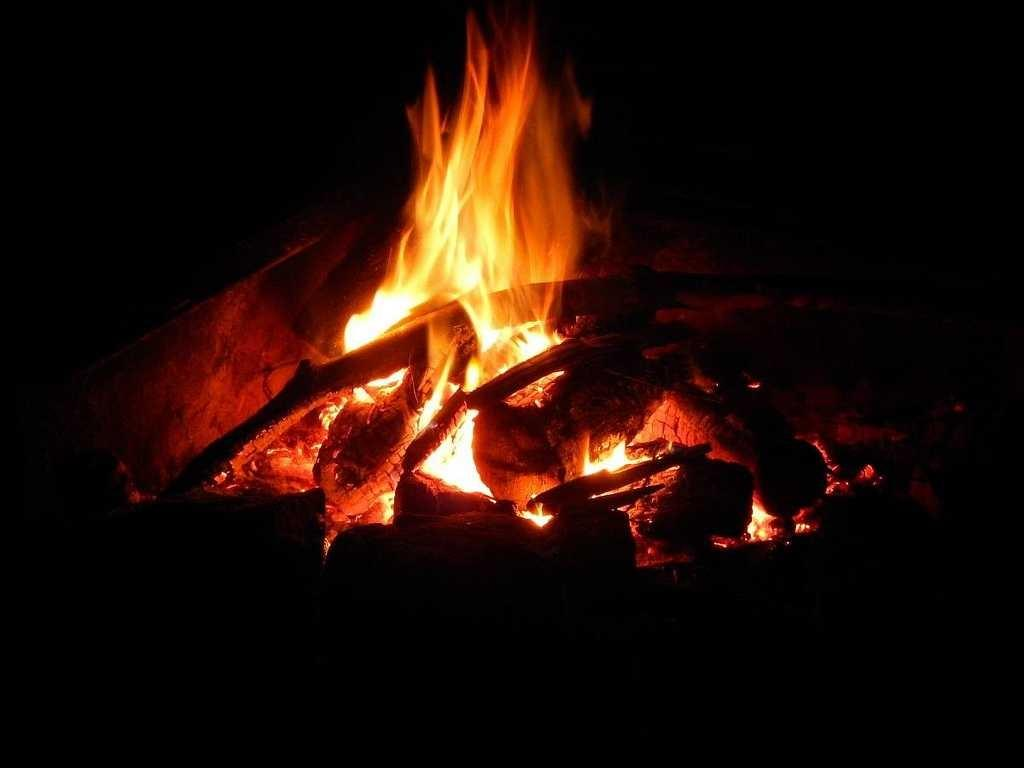fire: (354, 298, 542, 498), (406, 80, 582, 284)
